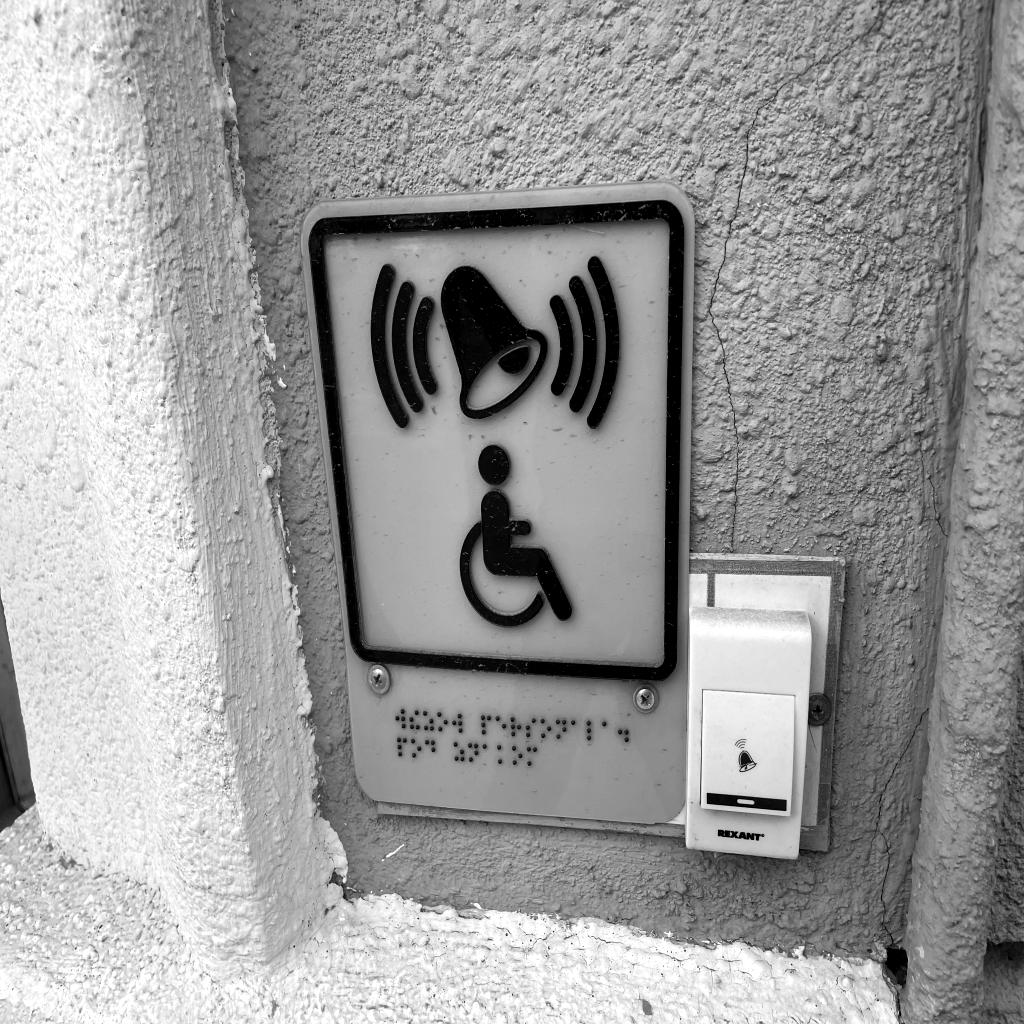_n: (555, 719, 567, 740), (468, 743, 479, 763)
a: (571, 719, 582, 741), (602, 721, 613, 742), (482, 743, 492, 764)
d: (425, 739, 436, 761)
e: (495, 715, 506, 737)
ii: (409, 709, 420, 730)
k: (497, 744, 507, 765)
l: (586, 720, 598, 741)
m: (527, 746, 537, 767)
o: (540, 718, 552, 739), (511, 745, 523, 766), (437, 711, 448, 733), (411, 738, 422, 759)
p: (397, 737, 408, 757), (481, 714, 491, 735)
r: (510, 716, 521, 737)
s: (525, 717, 536, 738)
tochka: (618, 721, 629, 743)
v: (395, 708, 406, 729), (452, 712, 462, 734)
z: (422, 710, 434, 731), (453, 741, 464, 762)
